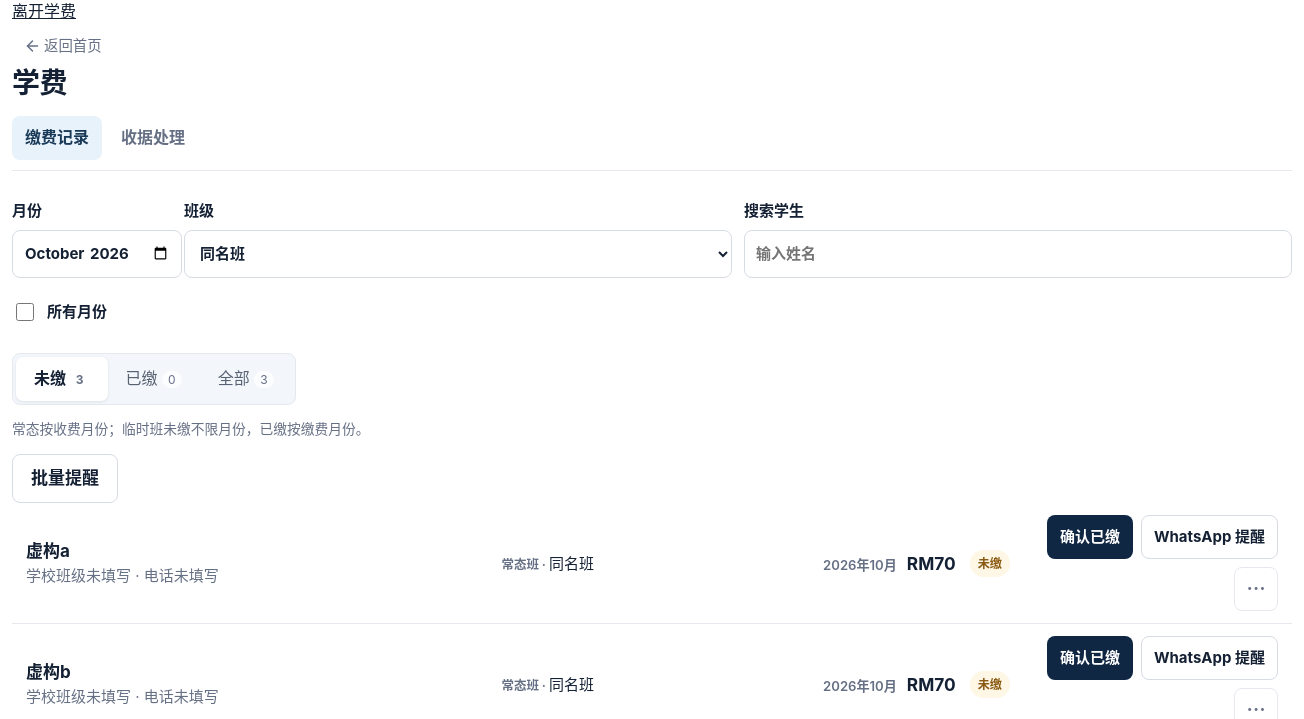
Scenario: starts three payments without a page lock and retains their original slots through reverse-order confirmation
Step 1. Click the 1st button "确认已缴" → (1090,537), box [1047,515,1133,559]
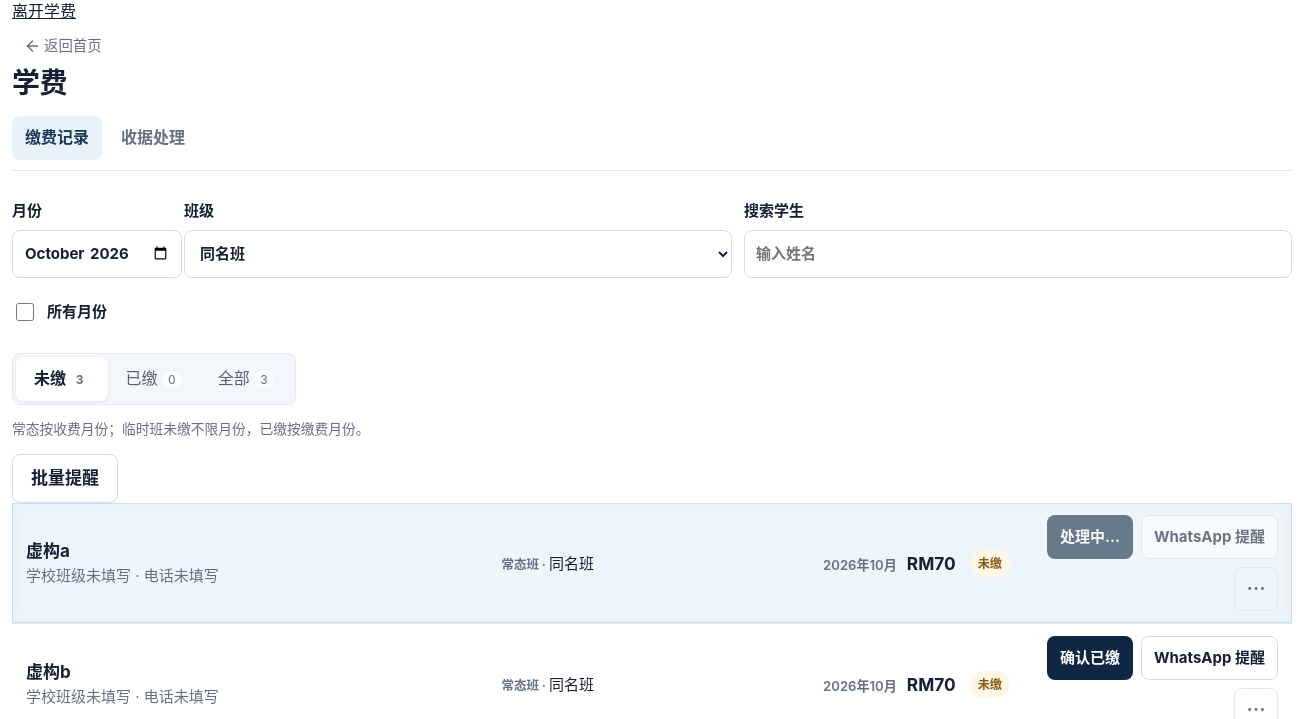
Step 2. Click the button "确认已缴" → (1090,658), box [1047,636,1133,680]
(page scrolled)
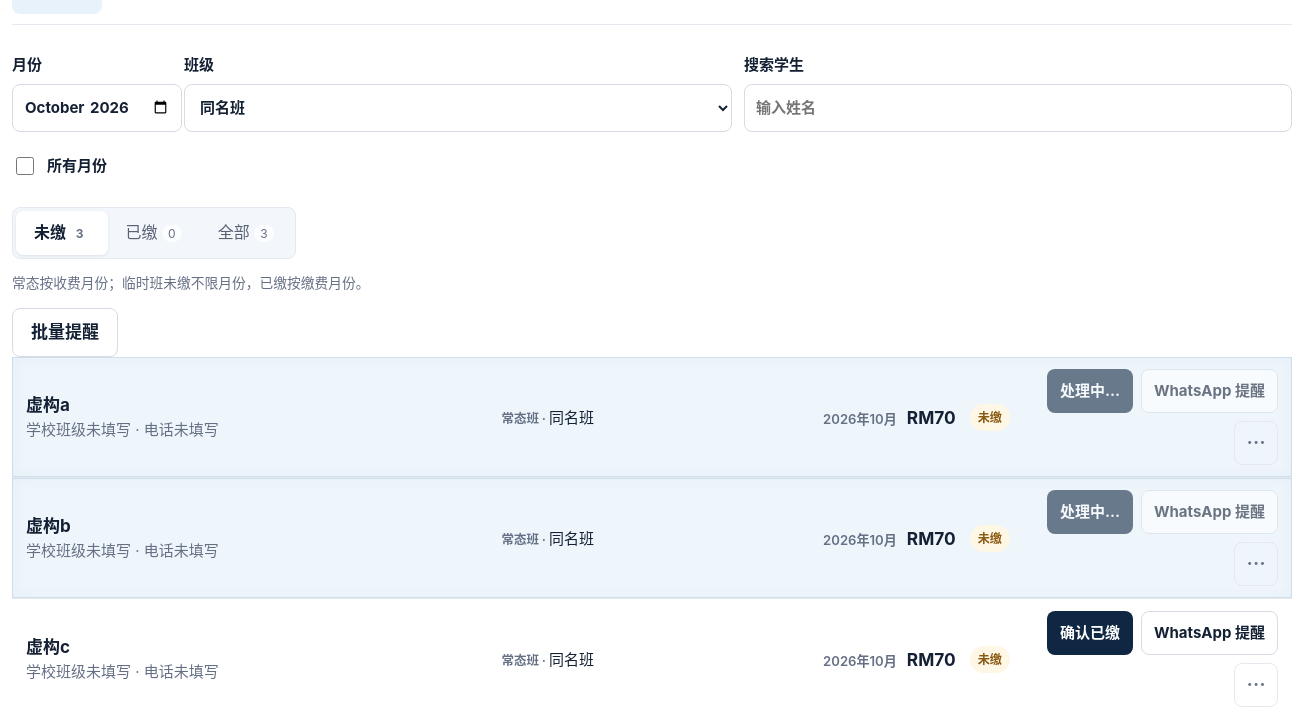
Step 3. Click the button "确认已缴" → (1090,633), box [1047,611,1133,655]
(page scrolled)
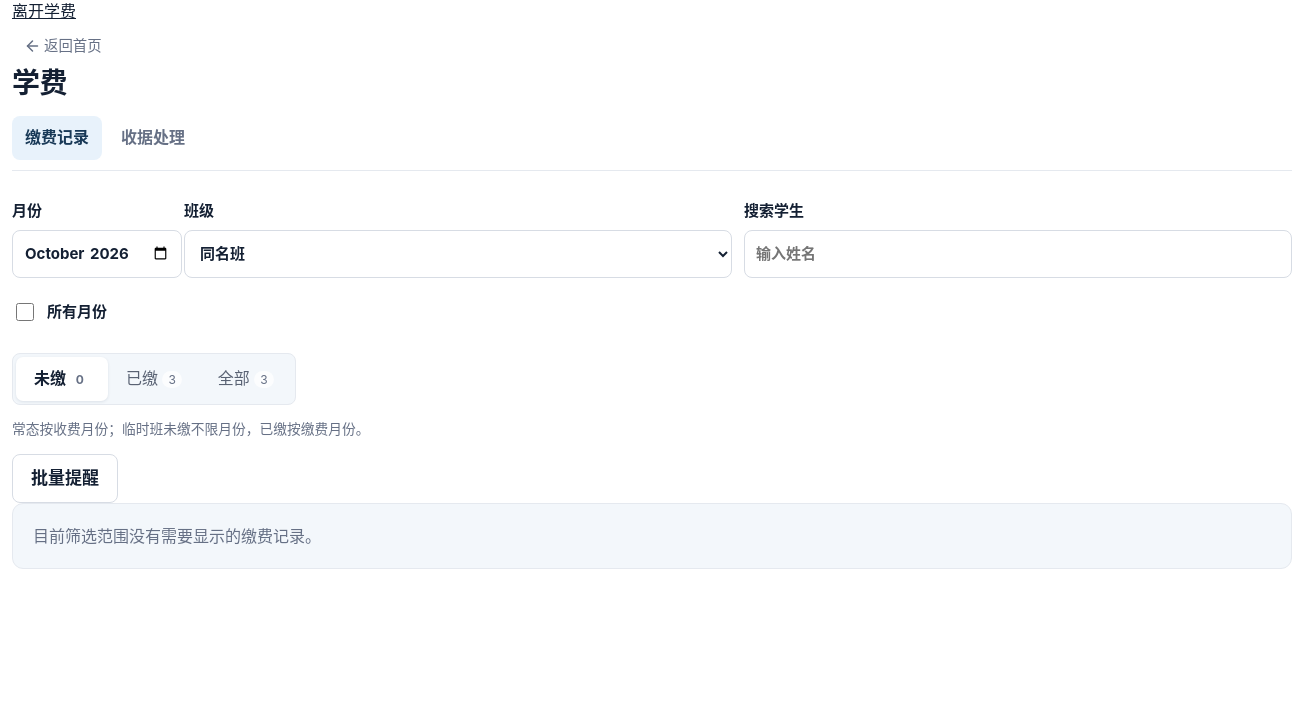
Expected: the dropdown labelled "班级" is enabled, [184,230,732,278]
Expected: the link "虚构c" is gone
